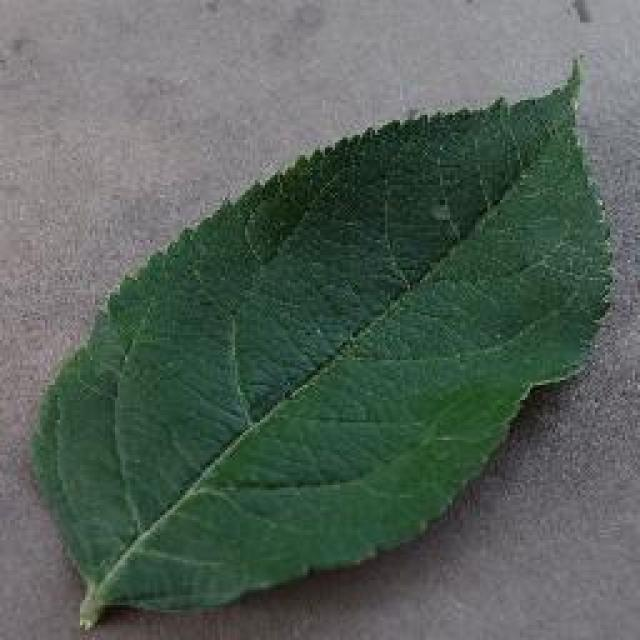apple healthy: (25, 50, 615, 630)
